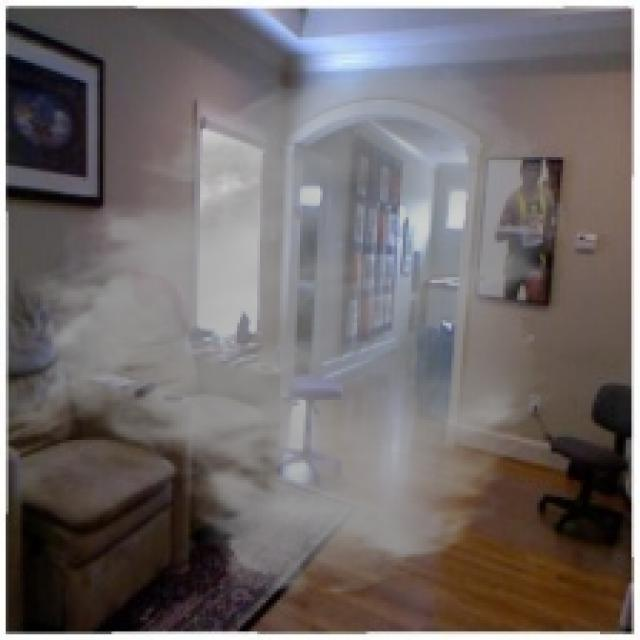Smoke: (11, 57, 572, 600)
